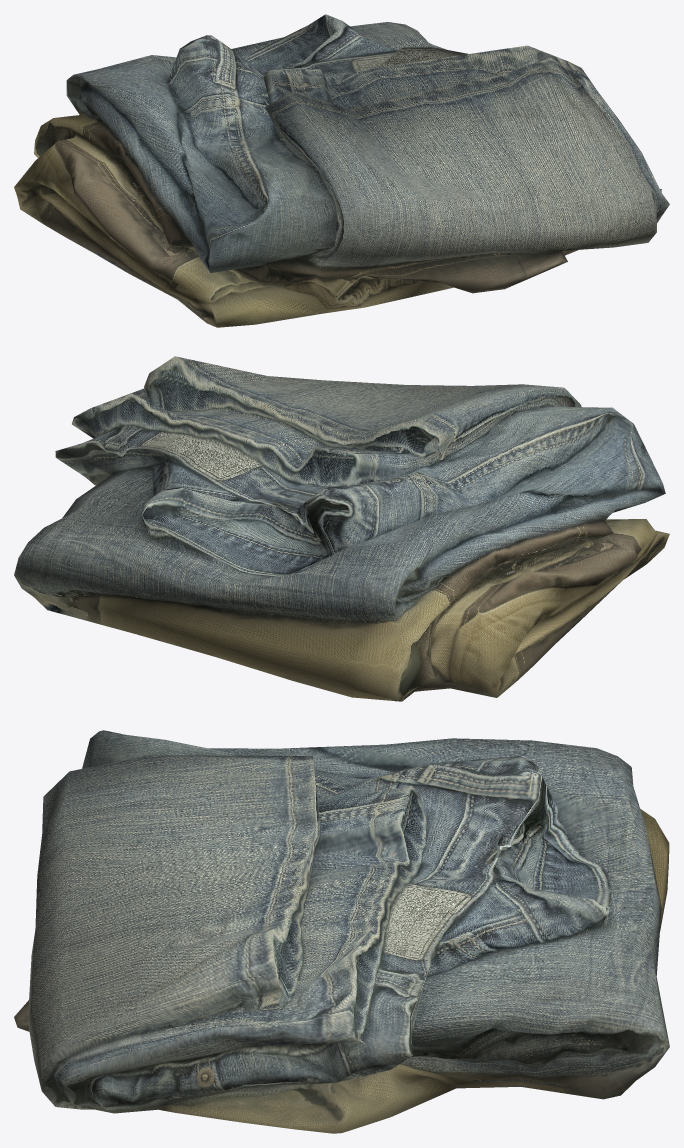
Rendered from FoldedJeans.FBX.
3 views of the same model, one above another, from view 1: azimuth 30°, elevation 25°; view 2: azimuth 150°, elevation 25°; view 3: azimuth 270°, elevation 25° (orthographic). The views are drawn at different scales.
Visible parts, largest first — view 1: FoldedJeans; view 2: FoldedJeans; view 3: FoldedJeans.
Boxes of the visible parts, x1,y1,x2,y2 form: FoldedJeans: (14, 14, 669, 327); FoldedJeans: (14, 356, 669, 701); FoldedJeans: (14, 730, 669, 1133).
Size of the model in its own units: 41.88 by 12.03 by 37.61.
